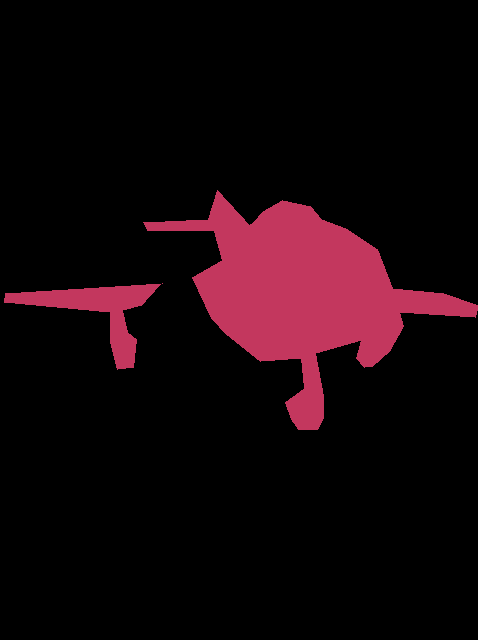Airplane: (4, 190, 478, 429)
